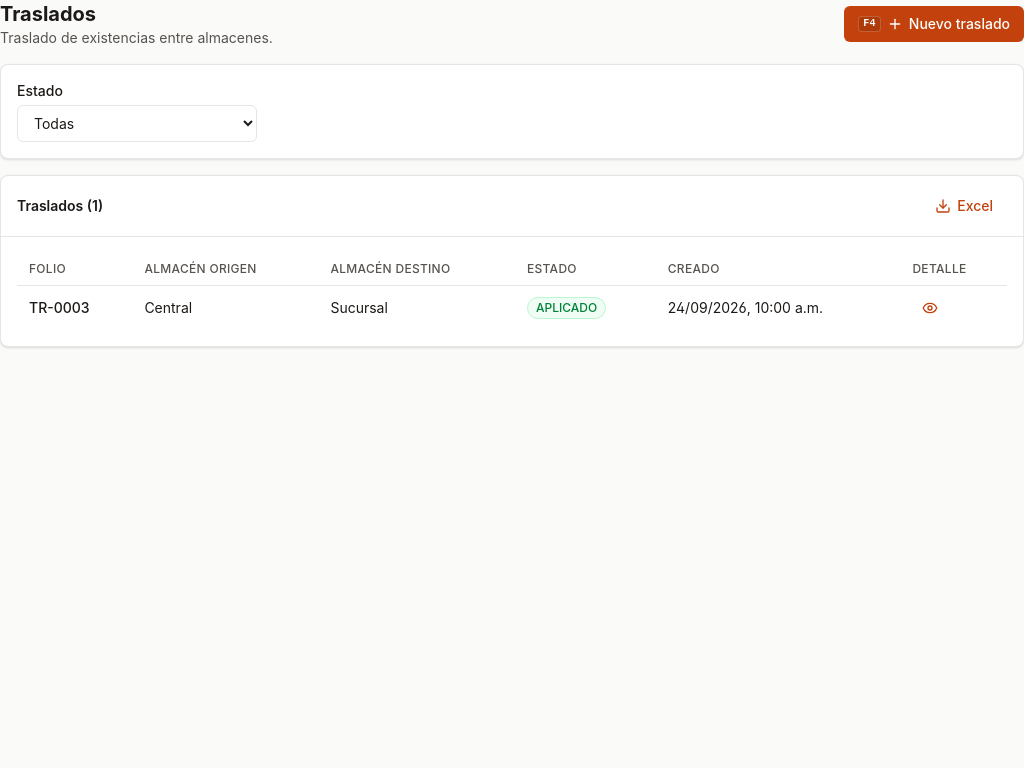
TrasladosPage (smoke) › ver detalle abre el diálogo con los productos trasladados
Click the button titled "Ver traslado TR-0003" at (930, 308), box [912, 294, 948, 322]
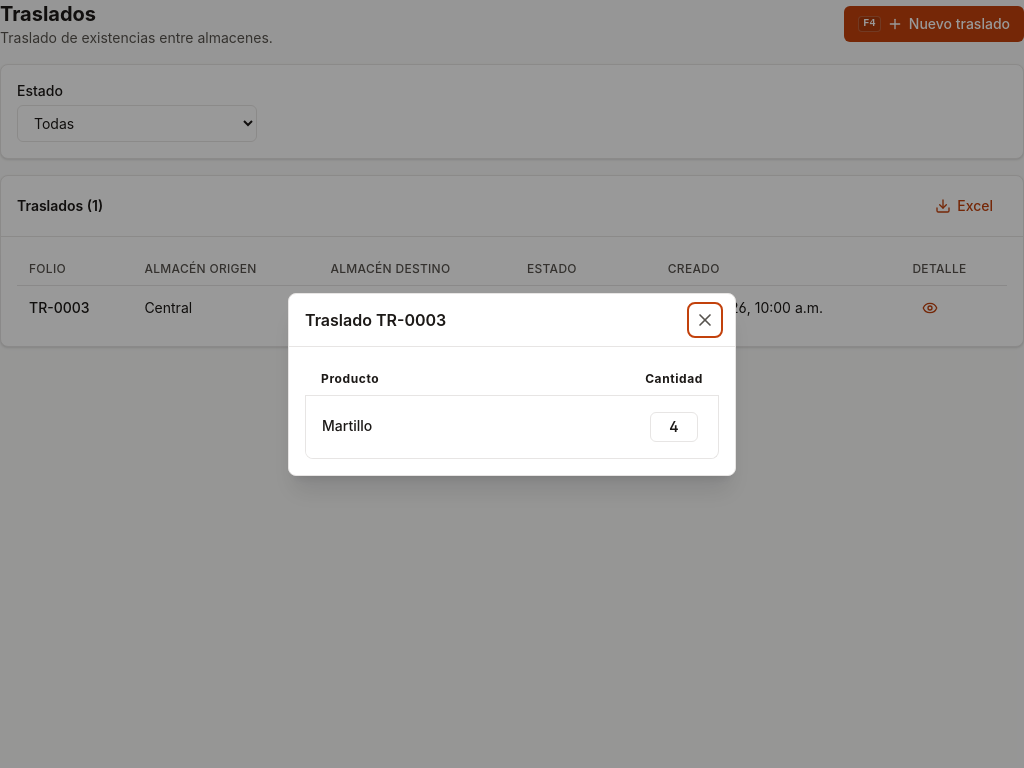
Expected: the text "Martillo" is shown, [322, 417, 372, 434]
